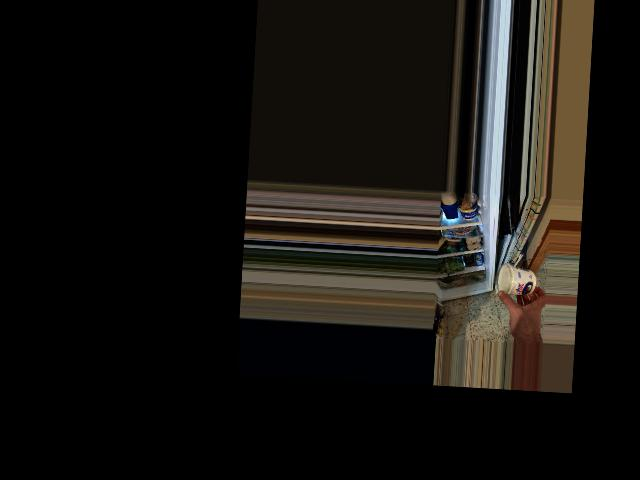cotage: (497, 264, 540, 295)
